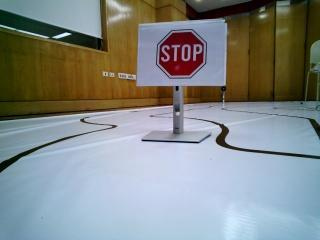stop: (140, 23, 210, 86)
